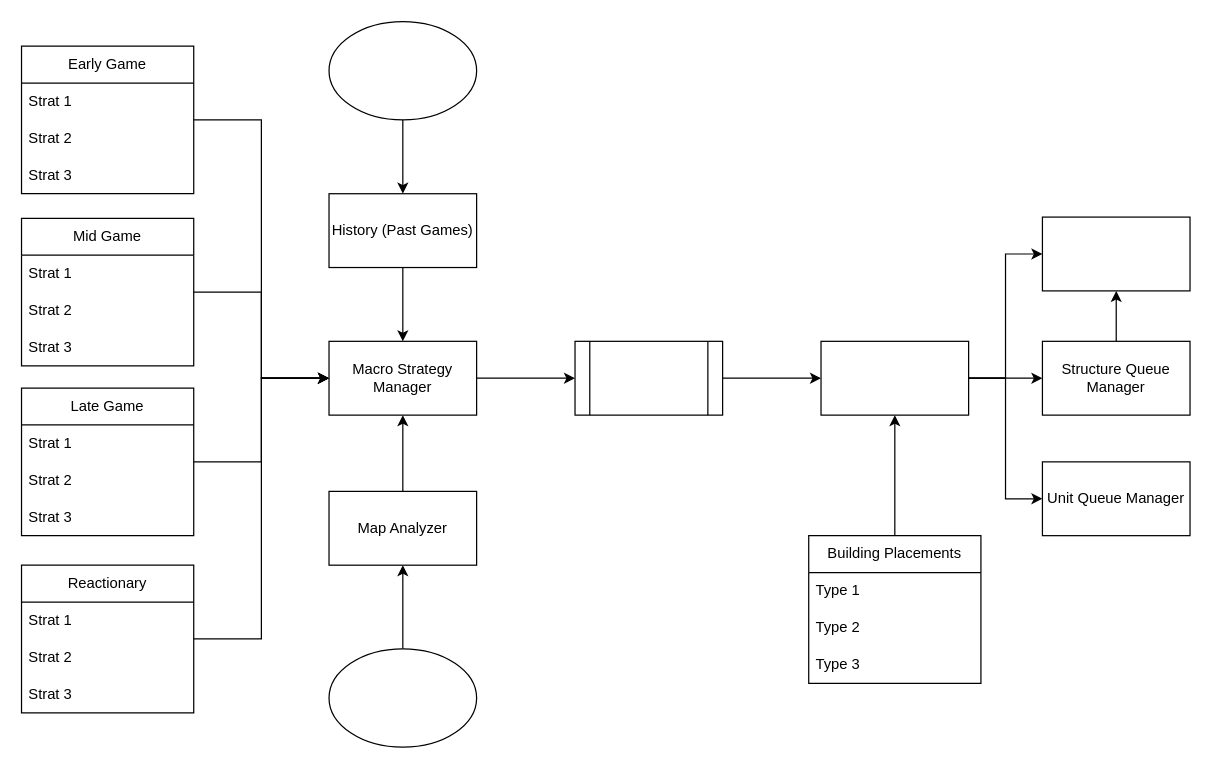
Image size: 1212x769. Some labels were removed from this diagram. Each missing label, with the centre of its shape:
Build Order Manager: (x=894, y=377)
Choose Strategy: (x=648, y=377)
Game: (x=402, y=697)
Game History: (x=402, y=70)
SCV Manager: (x=1115, y=253)
